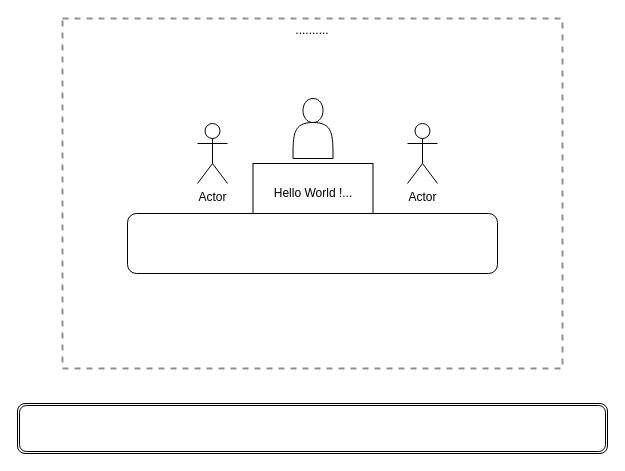
Image size: 625x471. Some labels were removed from this diagram. Each missing label, with the centre of its shape:
Drawio vscode extantion test!: (312,428)
Test! First time use: (312,243)
